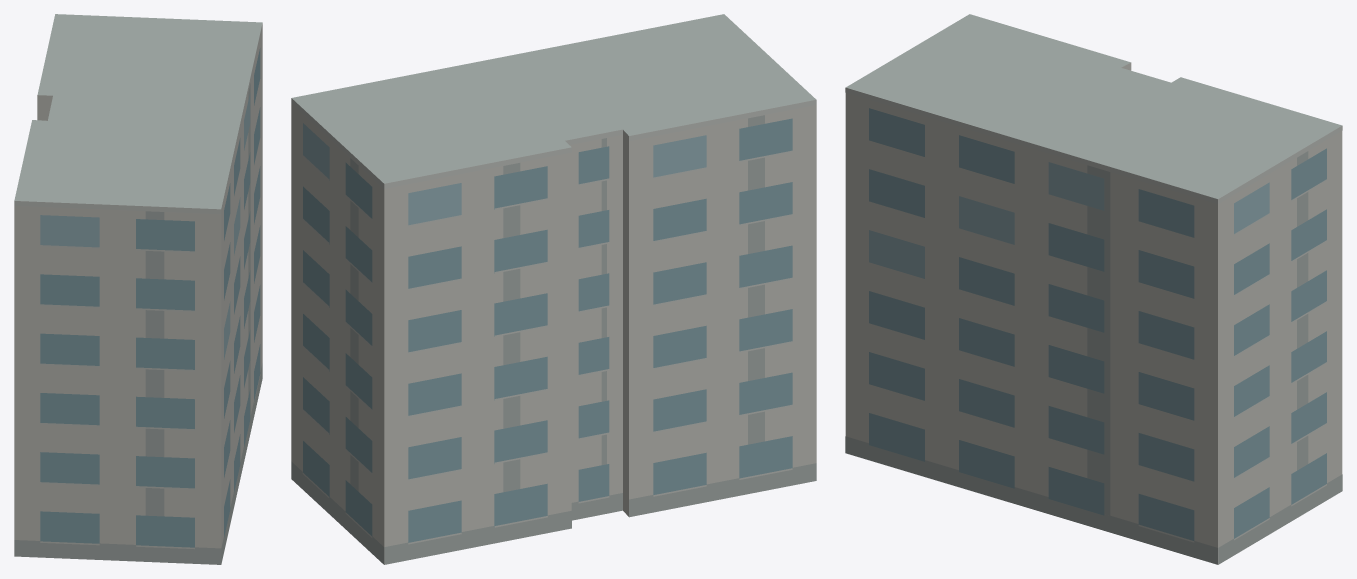
File: survey-upis-32621666.glb
3 renders of one model, left to right at view 1: azimuth 30°, elevation 25°; view 2: azimuth 150°, elevation 25°; view 3: azimuth 270°, elevation 25°, orthographic. The views are drawn at different scales.
Visible parts, largest first — view 1: survey-upis-32621666.tmp; view 2: survey-upis-32621666.tmp; view 3: survey-upis-32621666.tmp.
Part boxes in pixels (bbox=[...]): survey-upis-32621666.tmp: bbox=[14, 14, 262, 564]; survey-upis-32621666.tmp: bbox=[291, 14, 816, 564]; survey-upis-32621666.tmp: bbox=[845, 14, 1342, 564].
Bounding box in the file's own units: 18.8 × 17.3 × 21.32.
